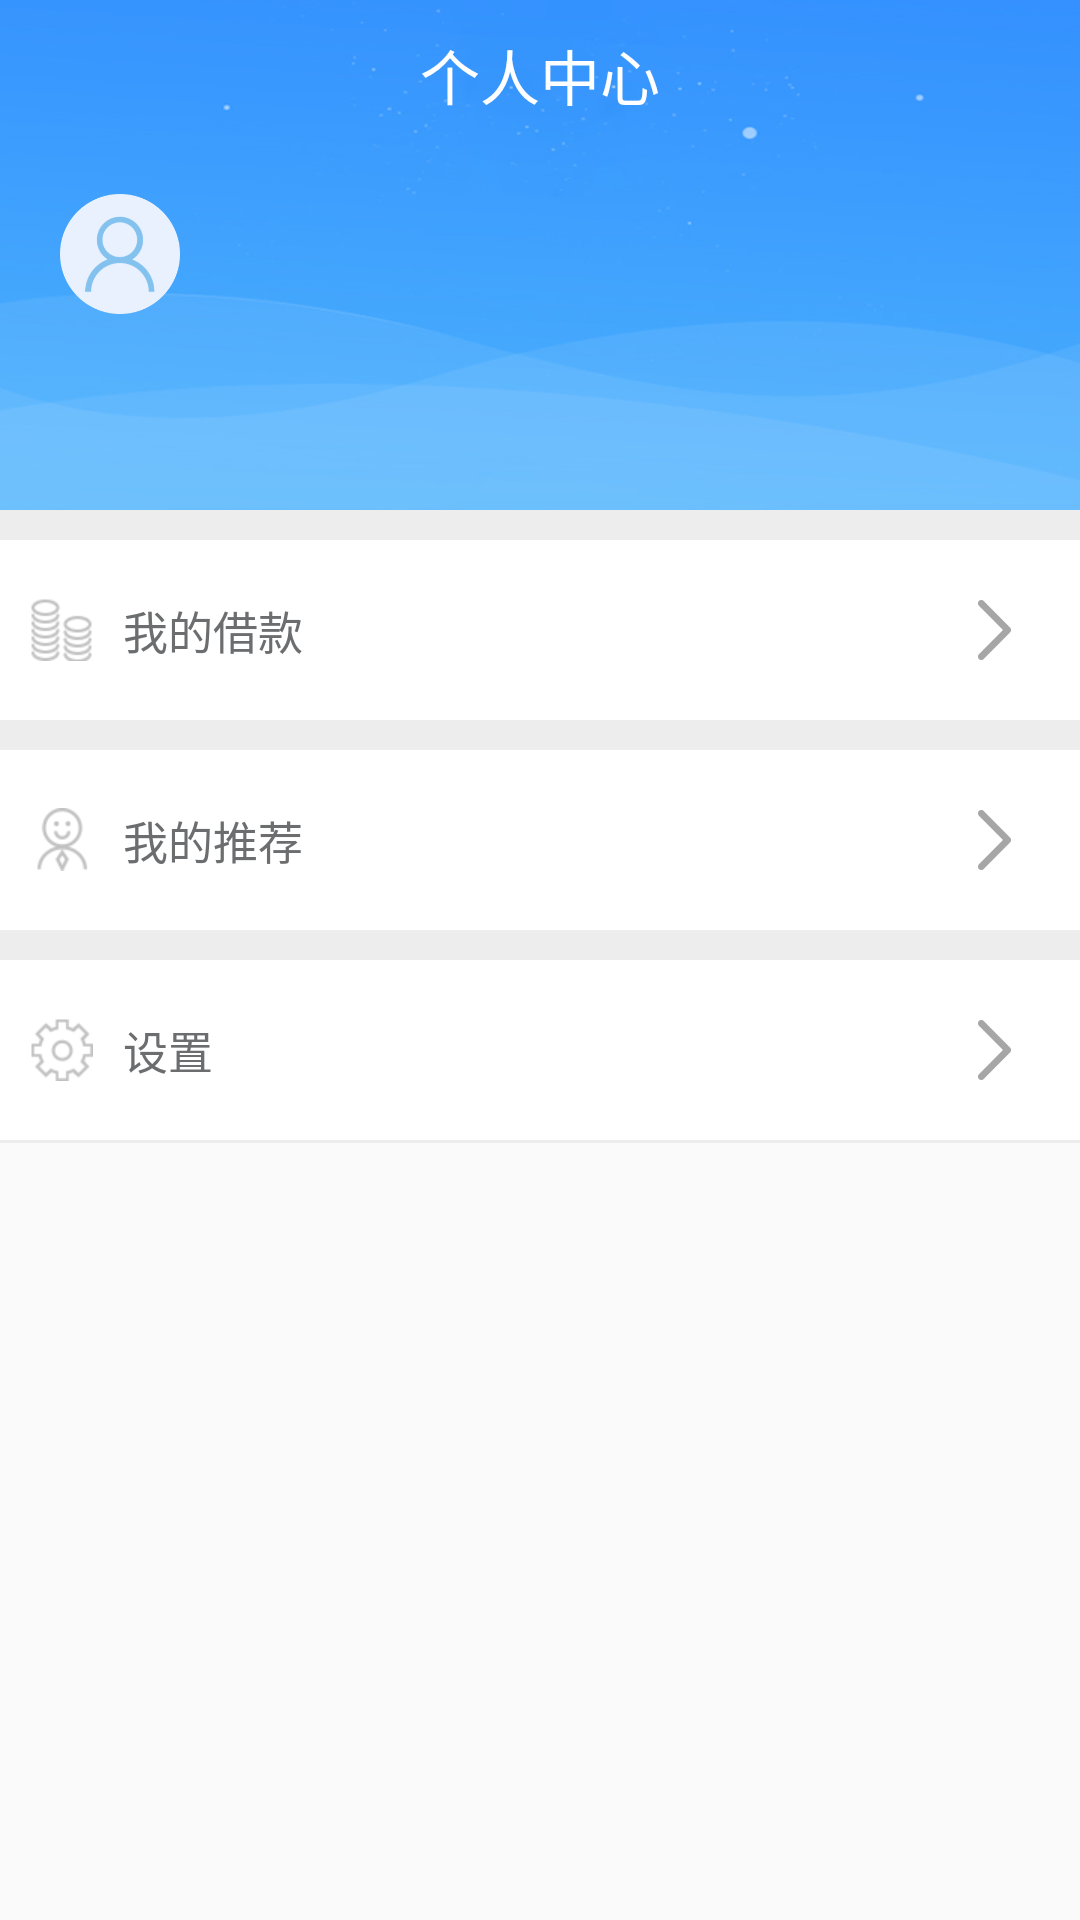

Named icons in this screenshot (1080w x 1920h) and their bounding boxes, (x1, y1, x2, y2):
shezitwo: (31, 1019, 93, 1081)
tuijiantwo: (37, 808, 87, 871)
zijintwo: (31, 599, 92, 661)
